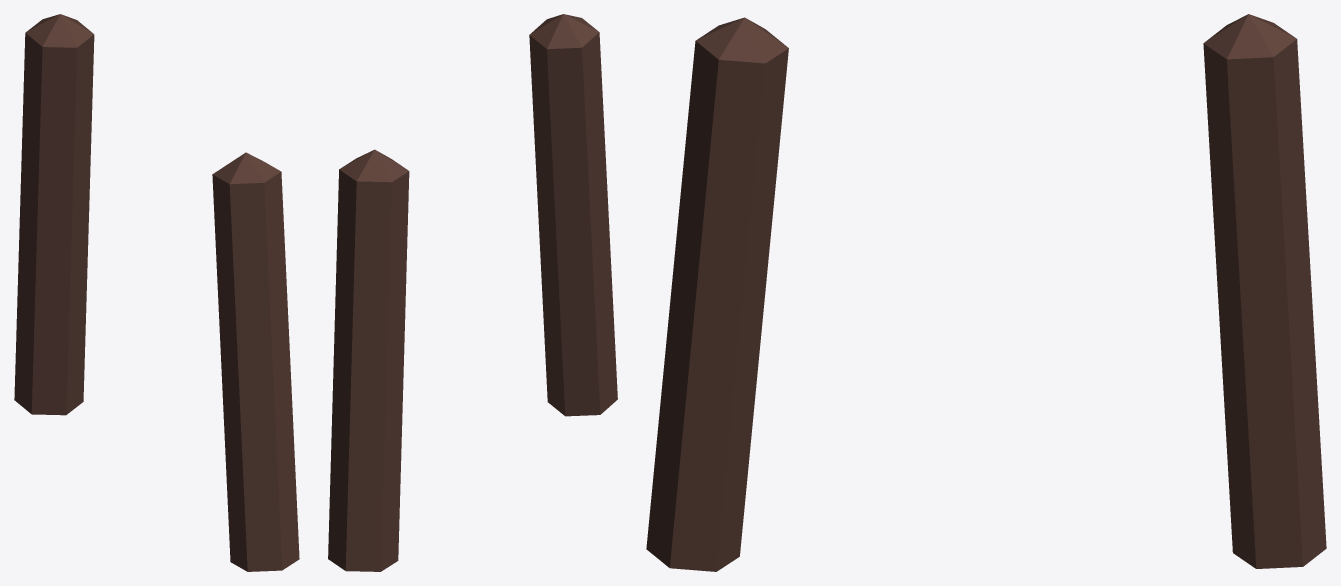
Rendered from Desert_Border01.fbx.
3 views of the same model, side by side, from view 1: azimuth 30°, elevation 25°; view 2: azimuth 150°, elevation 25°; view 3: azimuth 270°, elevation 25° (orthographic). The views are drawn at different scales.
Parts seen in each view (by area): view 1: Desert_Border01; view 2: Desert_Border01; view 3: Desert_Border01.
Part boxes in pixels (x1,y1,x2,y2): Desert_Border01: [14, 14, 299, 571]; Desert_Border01: [328, 14, 617, 571]; Desert_Border01: [646, 14, 1326, 571].
Bounding box in the file's own units: 0.1732 × 1.28 × 1.45.
